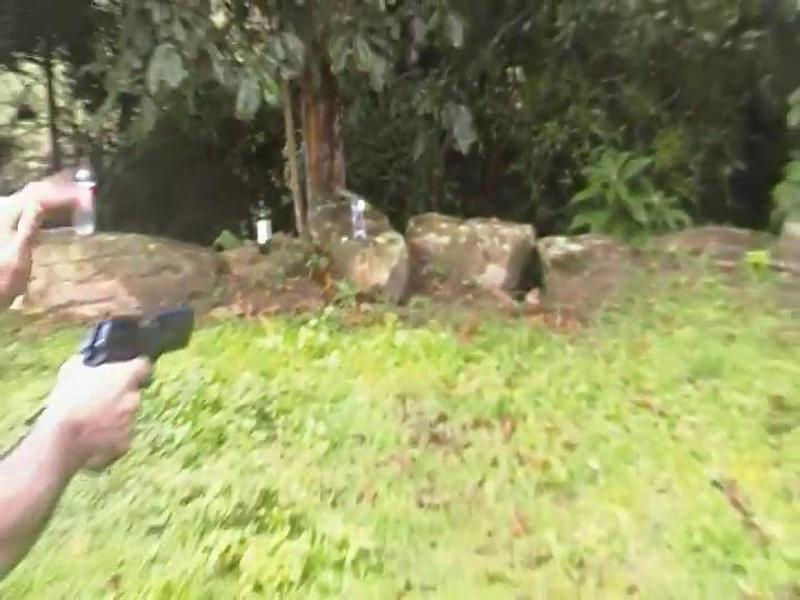Pistola: (58, 291, 215, 405)
